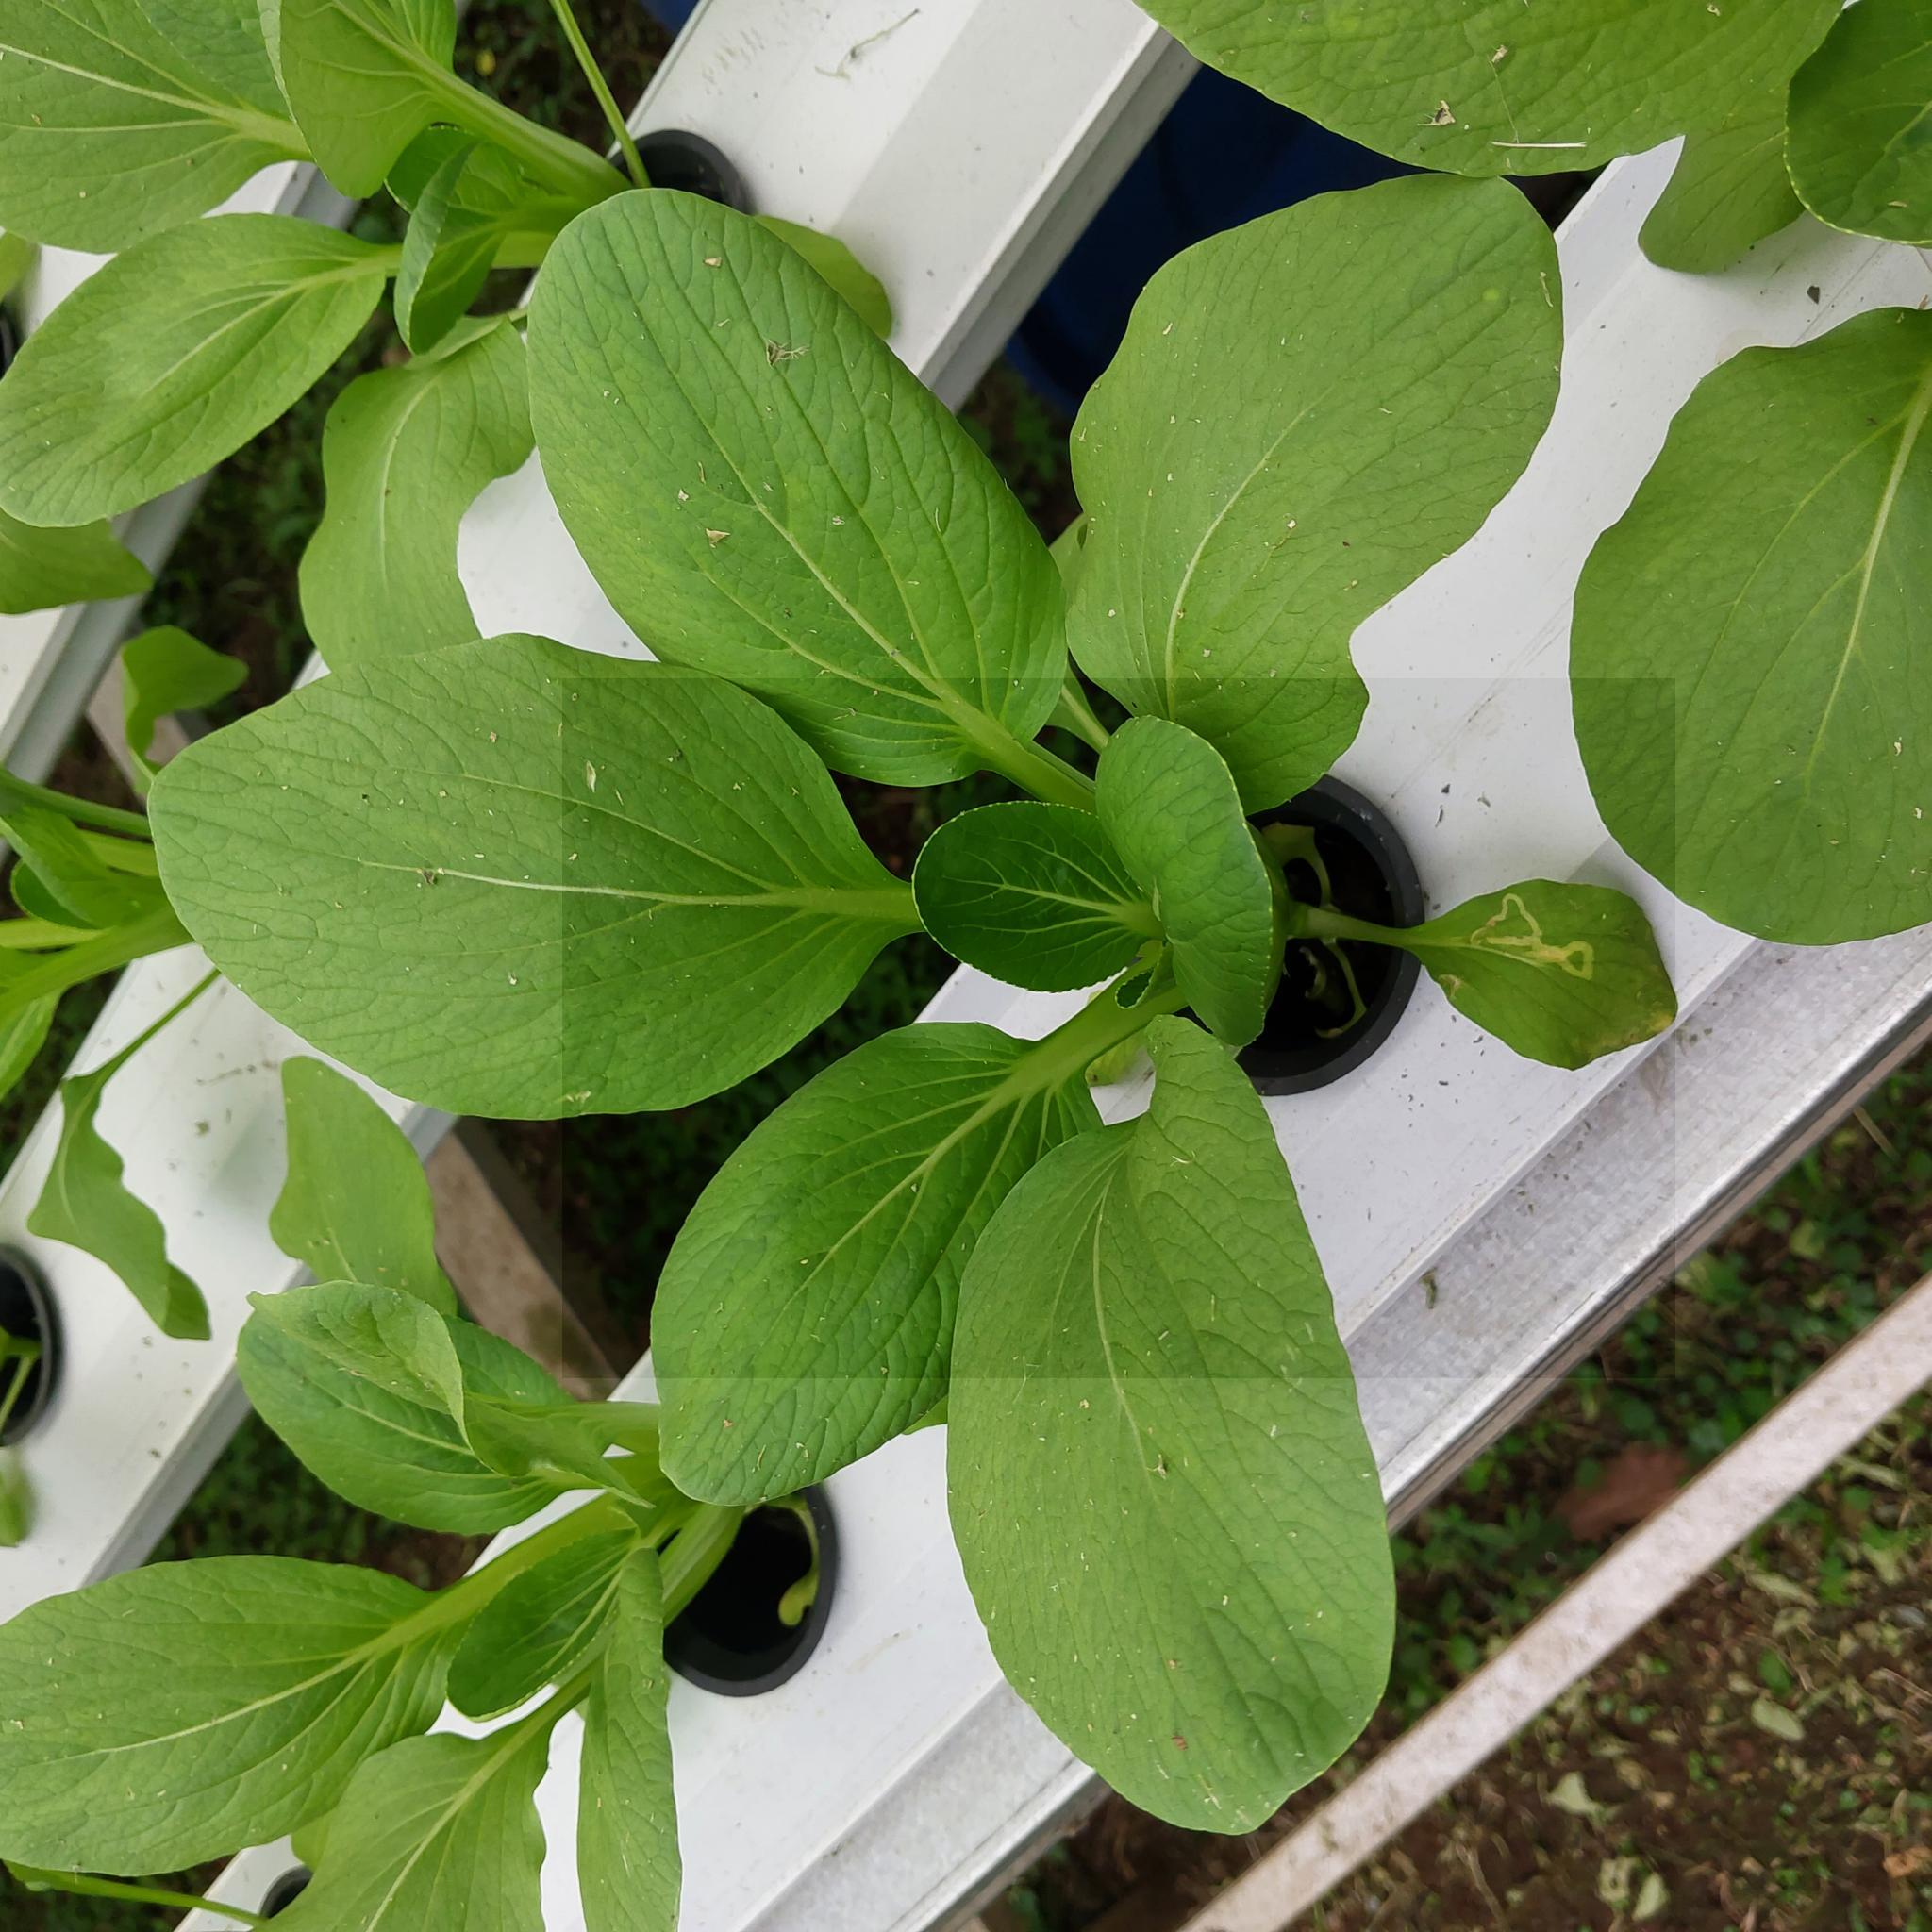Healthy-Pechay: (147, 648, 936, 1076), (1092, 168, 1564, 803), (991, 1077, 1371, 1826), (525, 186, 991, 793), (1568, 299, 1928, 931), (651, 1049, 987, 1495), (4, 1555, 441, 1881), (0, 216, 410, 534), (228, 1277, 679, 1543), (297, 324, 543, 683), (271, 2, 648, 235), (2, 2, 320, 253), (18, 1016, 225, 1339), (1086, 720, 1281, 1033), (267, 1732, 559, 1925), (262, 1054, 458, 1327), (1780, 0, 1932, 255), (0, 759, 179, 945), (117, 626, 248, 780), (752, 214, 888, 334), (2, 978, 65, 1134), (1831, 1456, 1913, 1513), (1854, 1518, 1914, 1576), (0, 226, 34, 326), (2, 1460, 35, 1546), (1755, 1649, 1792, 1693)
